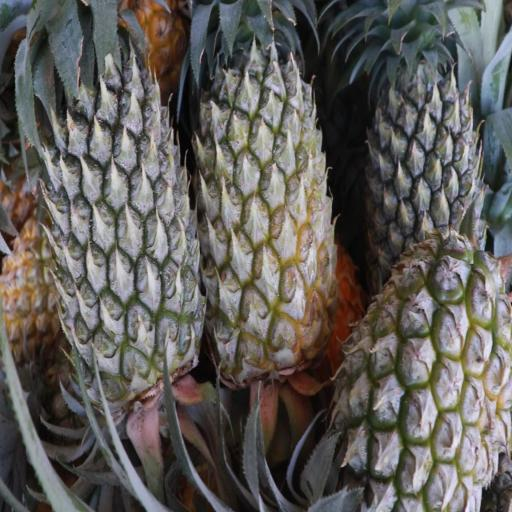------------------------------: (200, 15, 335, 370), (337, 248, 512, 510)
Pineapple - v8 v1: (0, 209, 71, 350)
